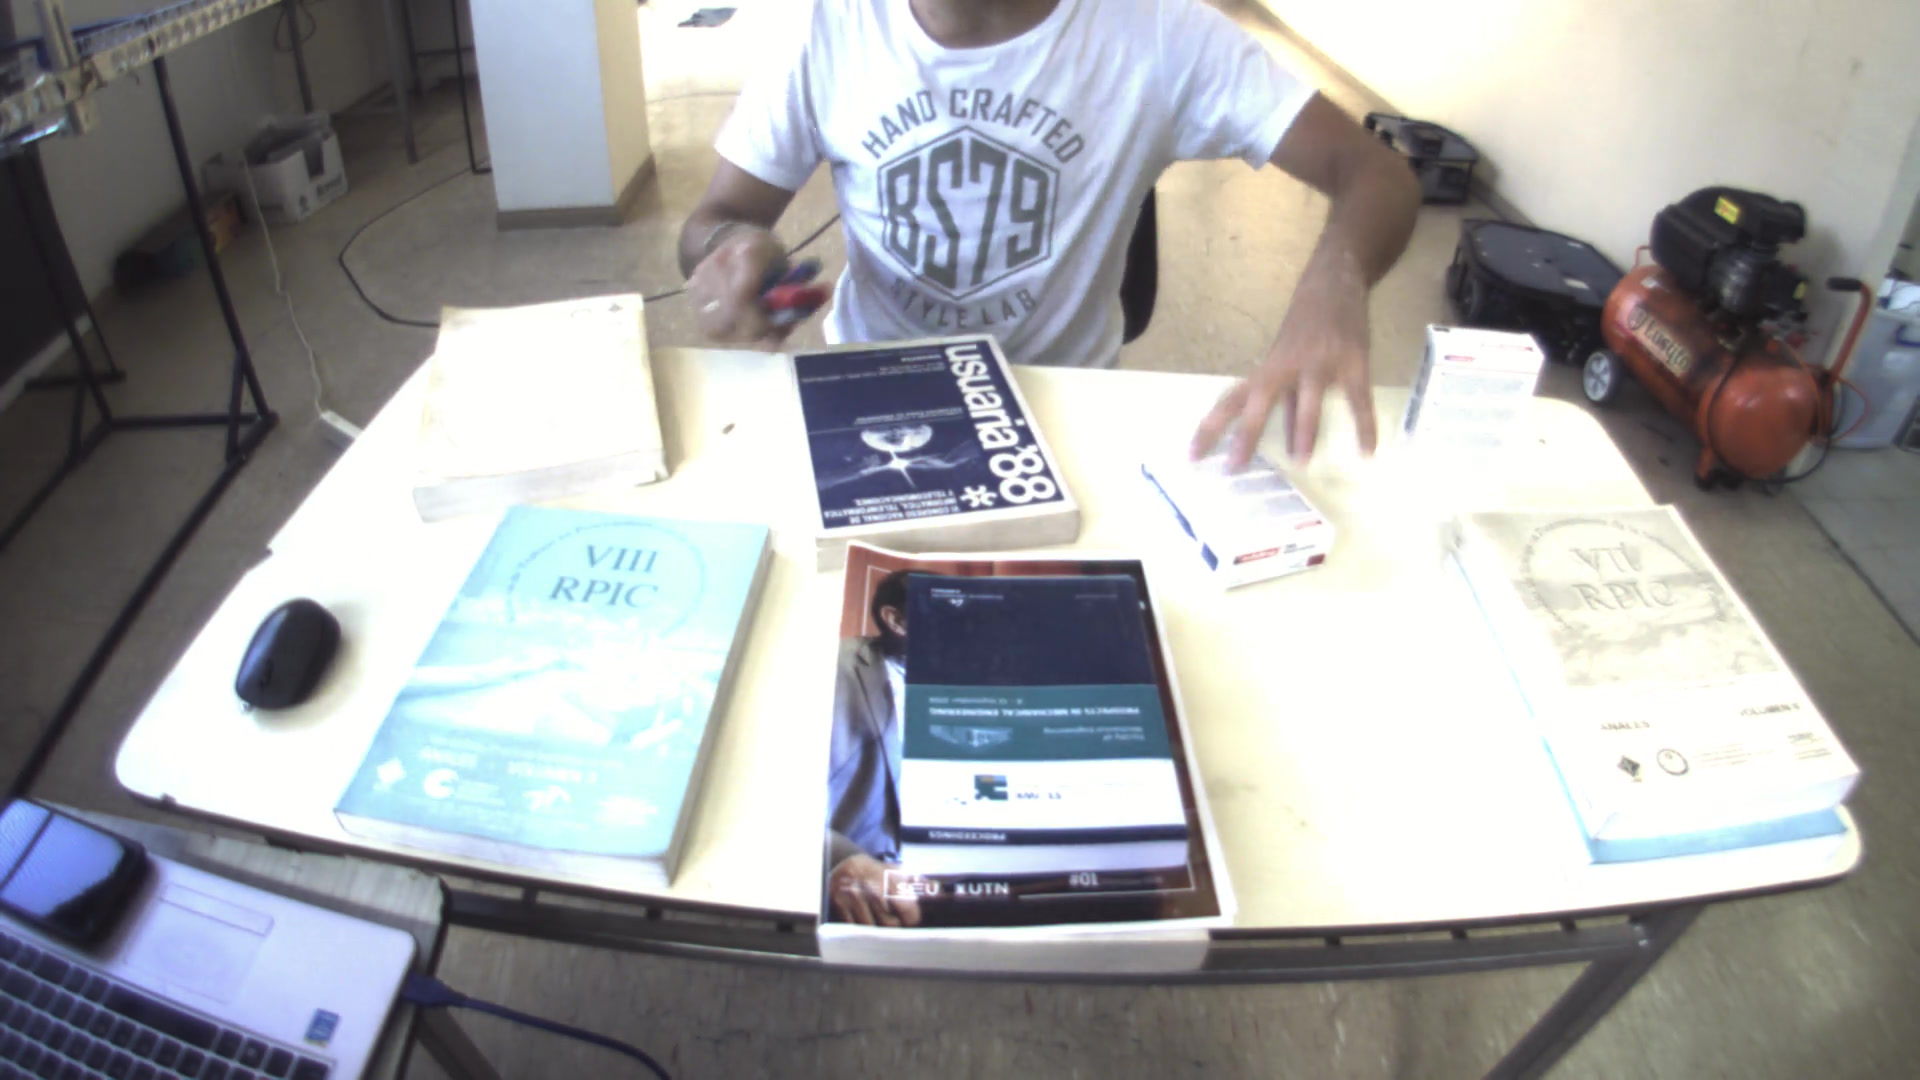hand: (1180, 269, 1396, 476), (670, 222, 799, 342)
